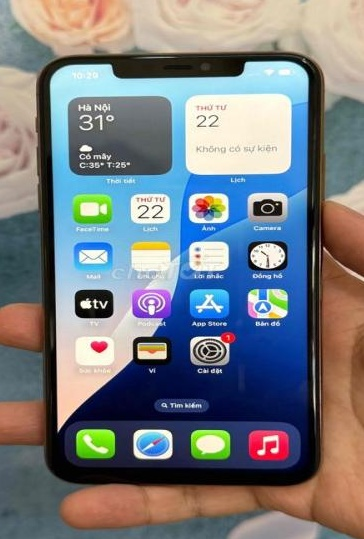scratch: (305, 331, 327, 417), (306, 231, 326, 294), (289, 52, 324, 75)
